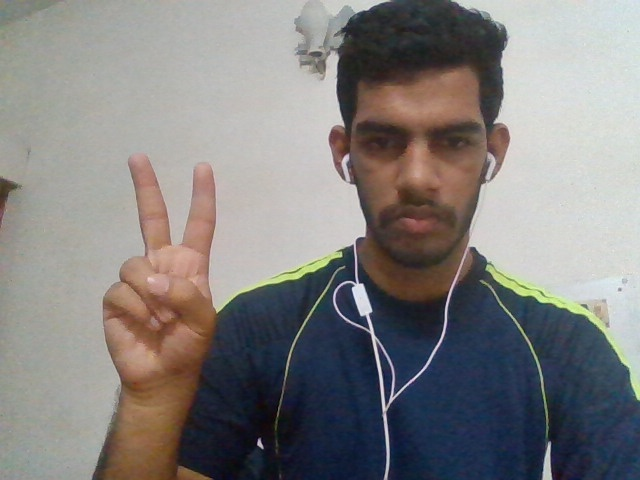bye: (87, 153, 225, 381)
